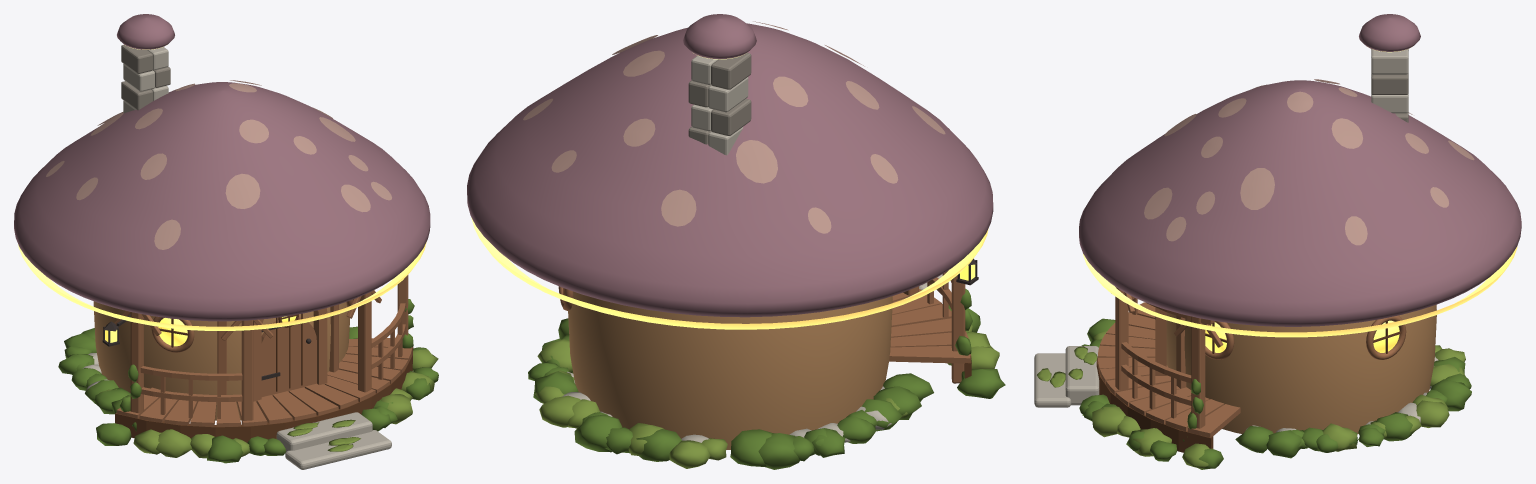
Rendered from cottage.glb.
The picture shows the model from 3 angles, left to right: view 1: azimuth 30°, elevation 25°; view 2: azimuth 150°, elevation 25°; view 3: azimuth 270°, elevation 25°; orthographic projection. The views are drawn at different scales.
Parts seen in each view (by area): view 1: cap, timber, plaster, leaf, spot, stone, moss, timber_dark, gill, stone_dark, glass, metal; view 2: cap, plaster, leaf, spot, timber, moss, gill, stone, stone_dark; view 3: cap, plaster, timber, leaf, spot, moss, stone, gill, timber_dark, stone_dark, glass.
Part boxes in pixels (left/top/right/bottom): cap: left=14, top=14, right=430, bottom=321; timber: left=114, top=275, right=412, bottom=426; plaster: left=93, top=301, right=349, bottom=420; leaf: left=58, top=299, right=438, bottom=463; spot: left=46, top=80, right=391, bottom=249; stone: left=83, top=47, right=391, bottom=469; moss: left=94, top=349, right=438, bottom=458; timber_dark: left=115, top=299, right=413, bottom=442; gill: left=18, top=45, right=426, bottom=330; stone_dark: left=121, top=45, right=170, bottom=110; glass: left=105, top=316, right=296, bottom=346; metal: left=102, top=314, right=311, bottom=380; cap: left=467, top=14, right=993, bottom=317; plaster: left=568, top=292, right=892, bottom=449; leaf: left=528, top=288, right=1005, bottom=469; spot: left=523, top=21, right=945, bottom=233; timber: left=558, top=270, right=970, bottom=383; moss: left=535, top=325, right=999, bottom=468; gill: left=471, top=53, right=988, bottom=329; stone: left=562, top=55, right=942, bottom=442; stone_dark: left=688, top=53, right=751, bottom=144; cap: left=1079, top=14, right=1521, bottom=326; plaster: left=1166, top=304, right=1436, bottom=434; timber: left=1097, top=286, right=1406, bottom=437; leaf: left=1079, top=318, right=1471, bottom=469; spot: left=1144, top=79, right=1474, bottom=245; moss: left=1037, top=331, right=1465, bottom=468; stone: left=1034, top=49, right=1438, bottom=432; gill: left=1083, top=48, right=1517, bottom=337; timber_dark: left=1096, top=321, right=1401, bottom=452; stone_dark: left=1371, top=49, right=1408, bottom=122; glass: left=1205, top=320, right=1399, bottom=352.
Bounding box in the file's own units: 7.83 × 6.98 × 8.61.
